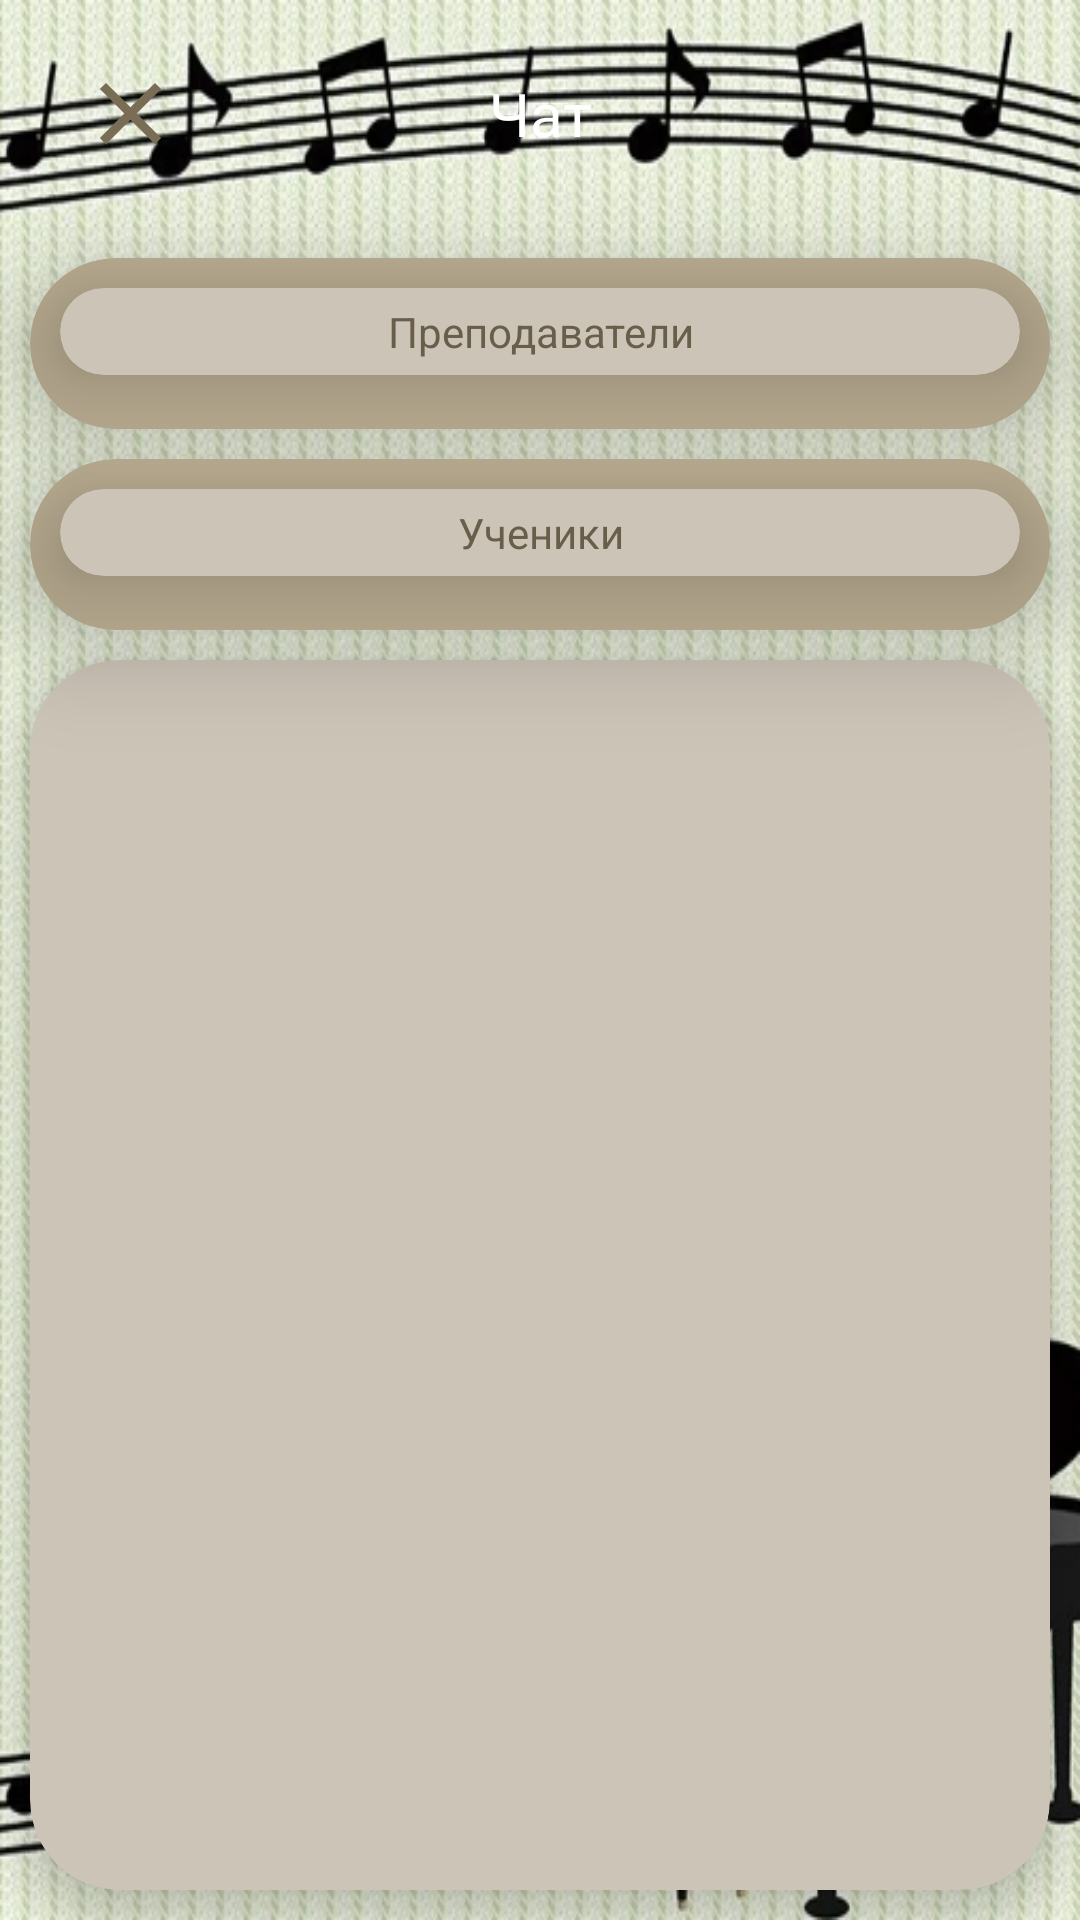

Where to tap for icons on this 1080x1920 app screen, as (x,y):
close: (130,113)
